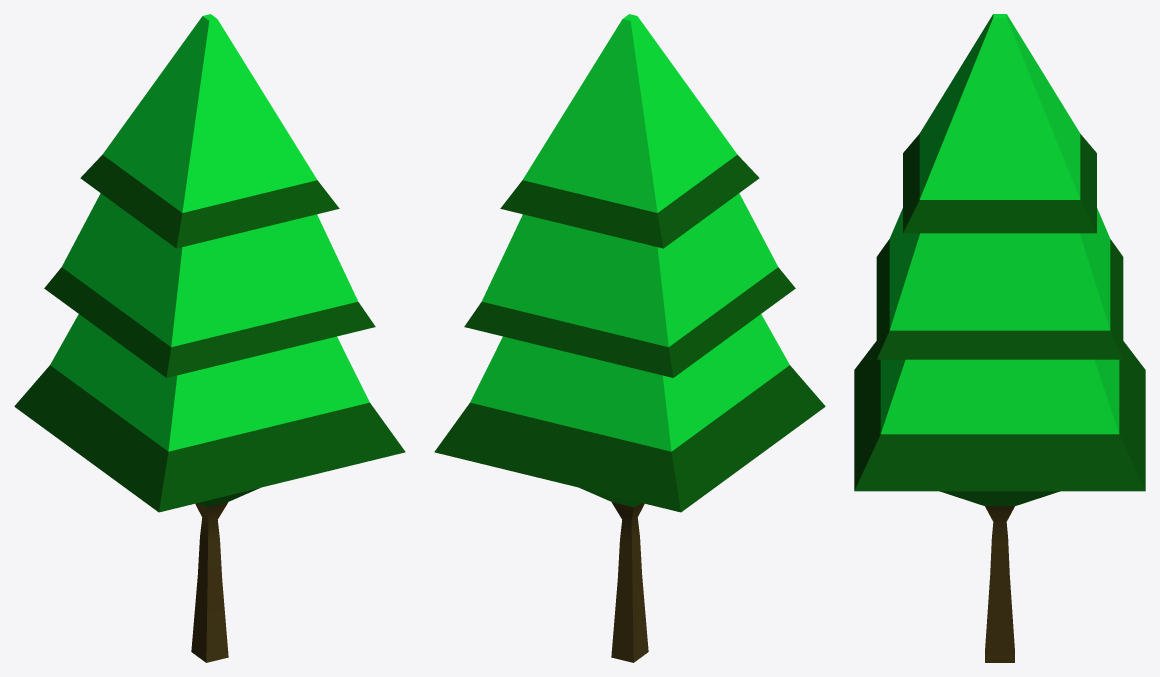
File: pinheiro2.FBX
3 renders of one model, left to right at view 1: azimuth 30°, elevation 25°; view 2: azimuth 150°, elevation 25°; view 3: azimuth 270°, elevation 25°, orthographic.
Visible parts, largest first — view 1: Box002; view 2: Box002; view 3: Box002.
Boxes of the visible parts, x1,y1,x2,y2 form: Box002: (14,14,405,662); Box002: (434,14,825,662); Box002: (854,14,1145,662).
Bounding box in the file's own units: 17.61 × 43.42 × 17.88.
